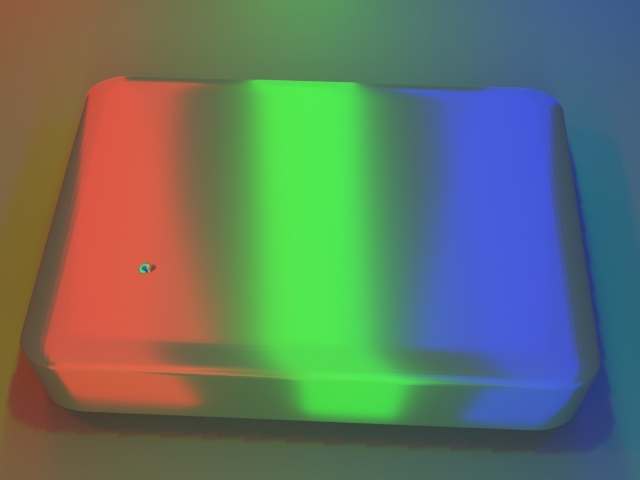dent: (107, 252, 148, 288)
